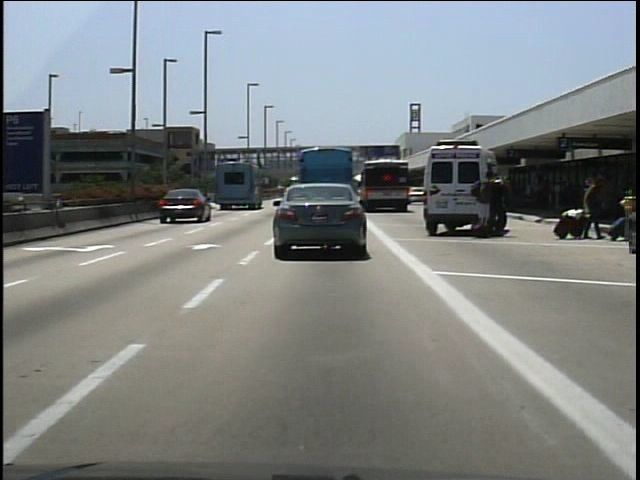person: (581, 167, 608, 244), (472, 168, 497, 238), (492, 174, 511, 236)
